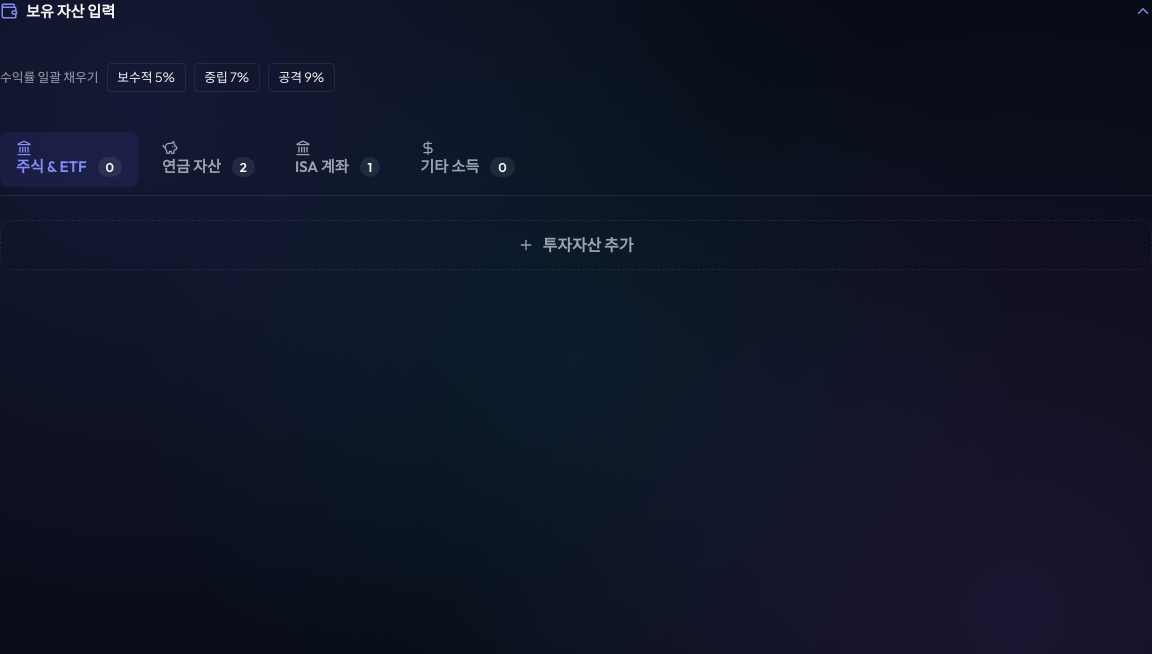
Test: AssetFormSection - 수익률 입력은 전략에 잠기지 않는다 › 사적연금·ISA 수익률 입력도 함께 열려 있다
Click the button "연금 자산 2". click: (208, 159)
box: [146, 132, 271, 187]
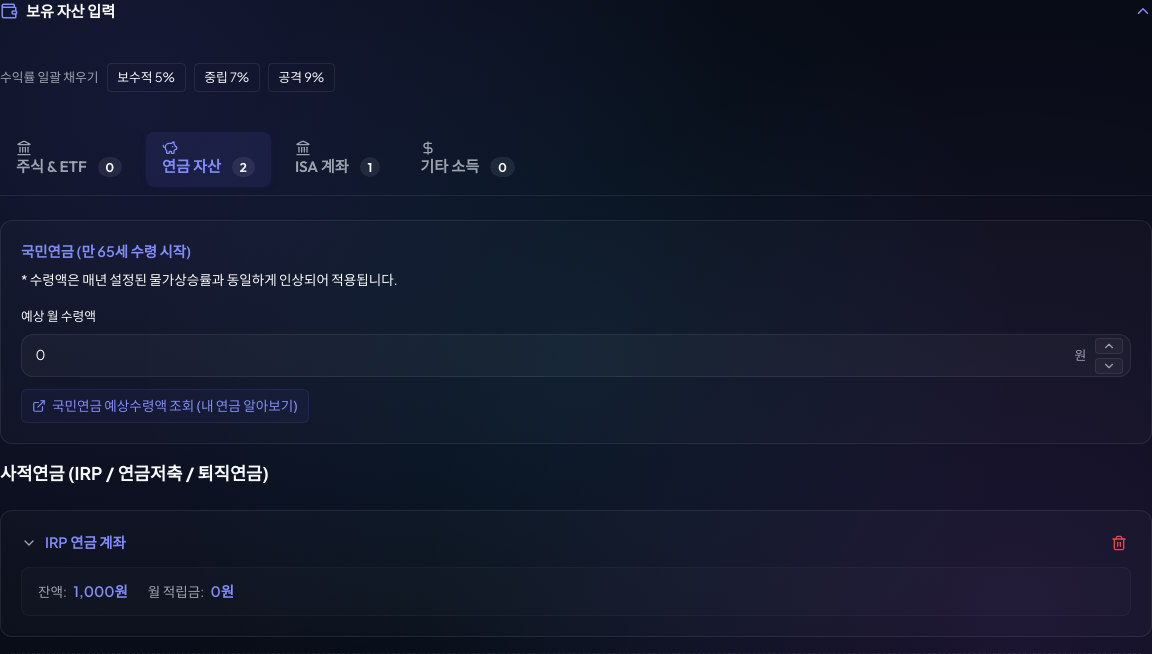
Click the text "IRP 연금 계좌". click: (85, 543)
box: [45, 532, 126, 554]
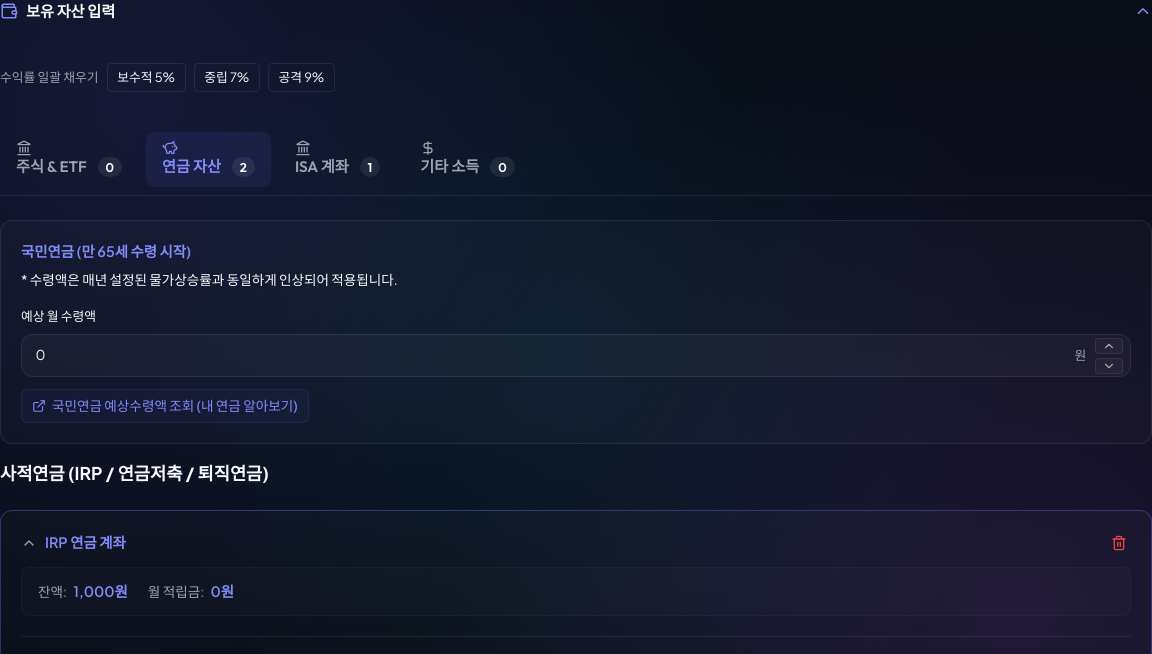
Click the button "ISA 계좌 1". click: (338, 159)
box: [279, 132, 396, 187]
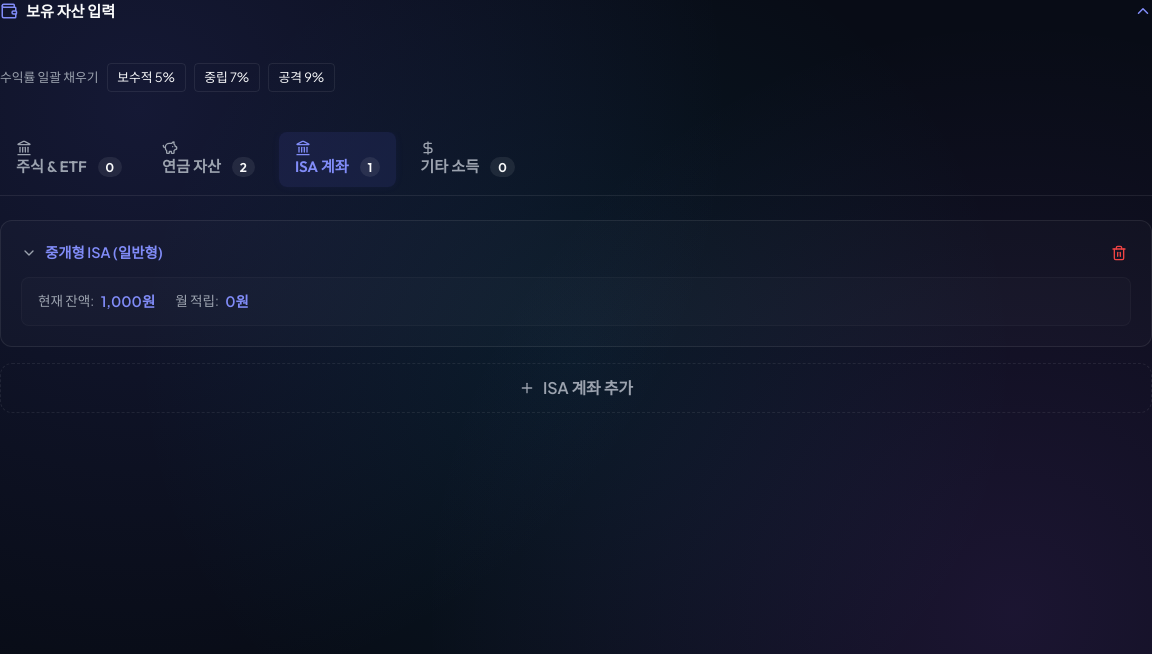
Click the text "중개형 ISA (일반형)". click: (104, 253)
box: [45, 242, 163, 264]
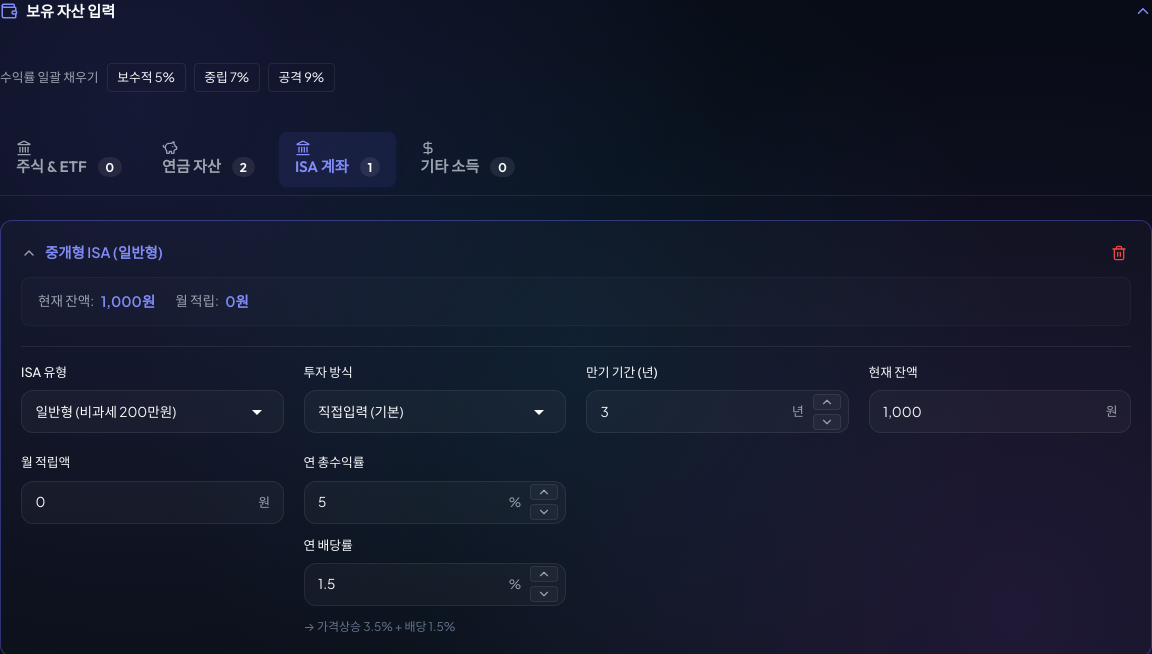
expect the number field labelled "연 총수익률" is enabled: met, box [304, 480, 566, 524]
